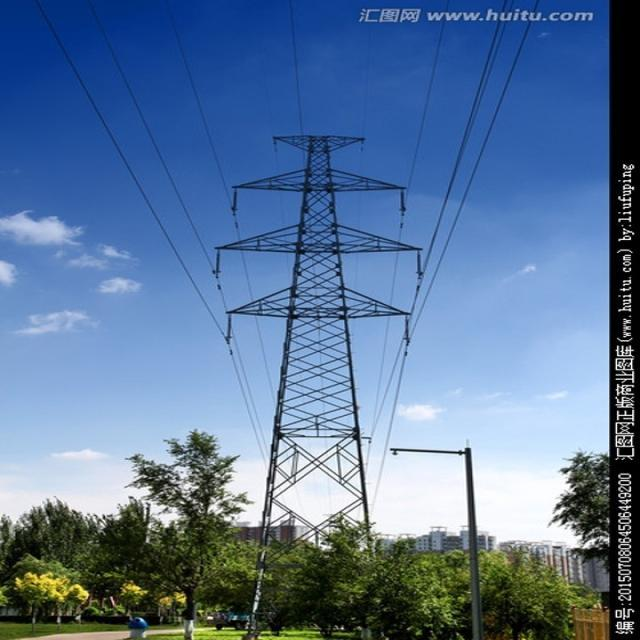non-critical vegetation: (198, 126, 442, 609)
